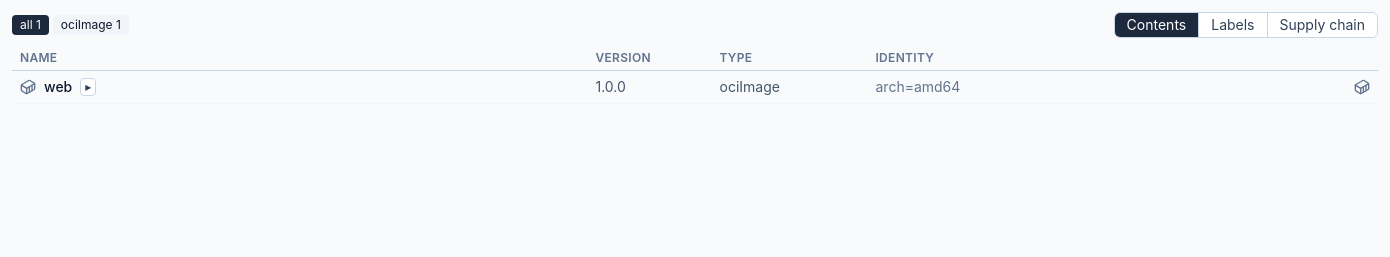
contents view columns: version before type, no chips
The image size is (1390, 257).
Expected: the button named "docker pull web" is shown, [1354,79,1370,95]
Click the button with aria-label "Details web": [58, 87] box [44,77,72,97]
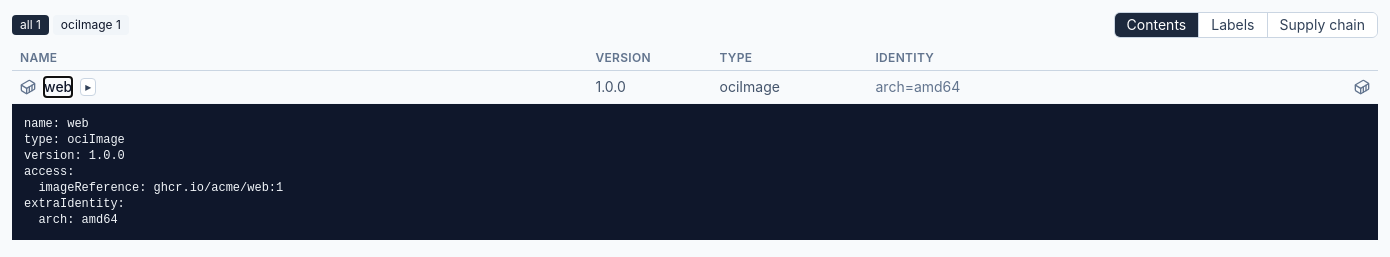
Result: the text "imageReference: ghcr.io/acme/web:1" is shown at [24,117,283,227]
